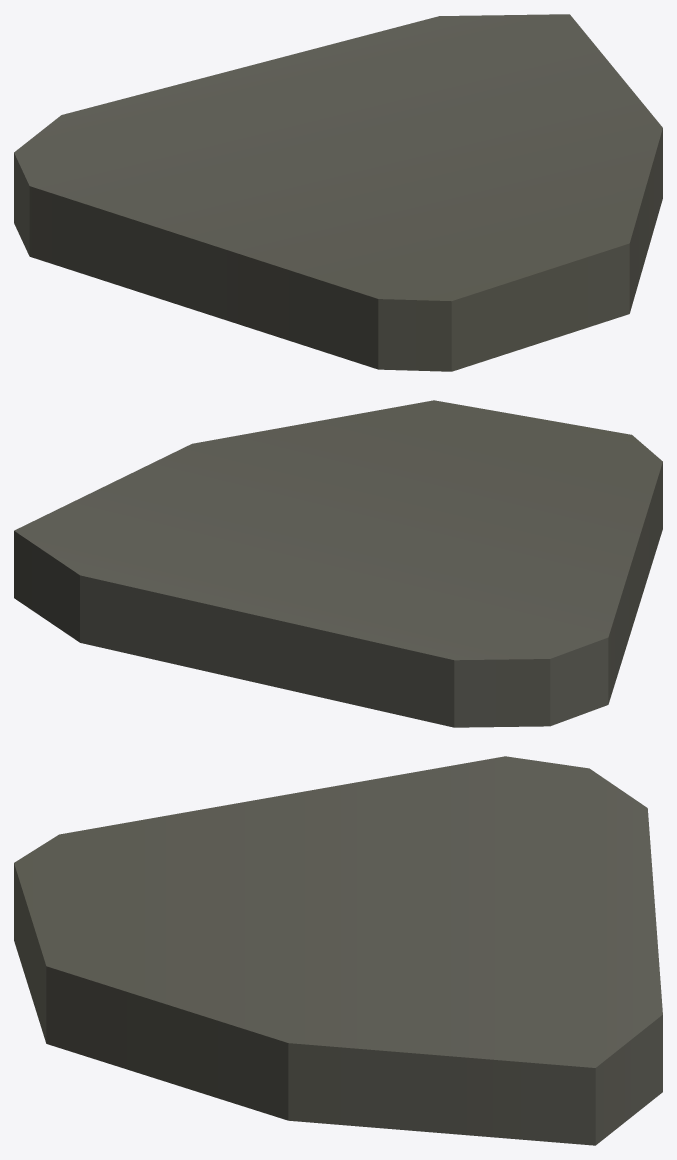
File: Tile_04.fbx
The picture shows the model from 3 angles, top to bottom: view 1: azimuth 30°, elevation 25°; view 2: azimuth 150°, elevation 25°; view 3: azimuth 270°, elevation 25°; orthographic projection. The views are drawn at different scales.
Parts seen in each view (by area): view 1: Tile_04; view 2: Tile_04; view 3: Tile_04.
Part boxes in pixels (x1=…): Tile_04: x1=14, y1=14, x2=662, y2=371; Tile_04: x1=14, y1=400, x2=662, y2=727; Tile_04: x1=14, y1=756, x2=662, y2=1145.
Bounding box in the file's own units: 0.3242 × 0.0377 × 0.2852.
